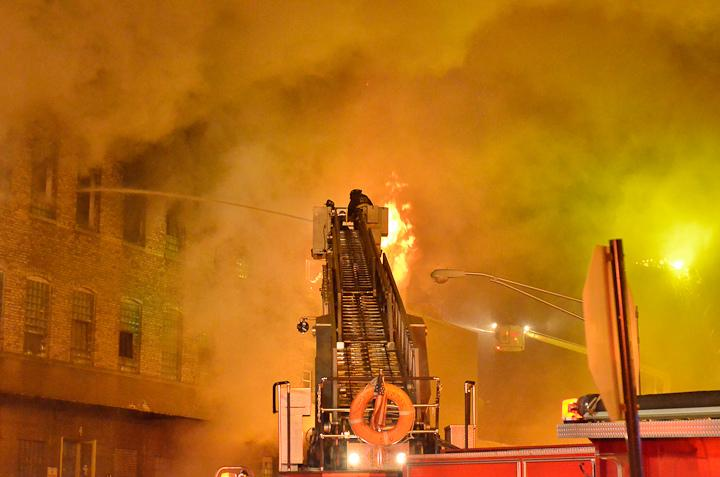fire: (382, 201, 410, 276)
